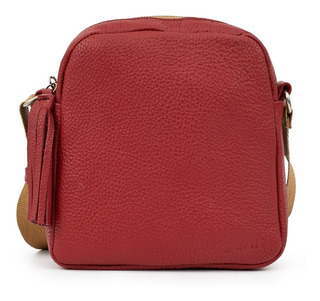cartera: (18, 14, 297, 272)
